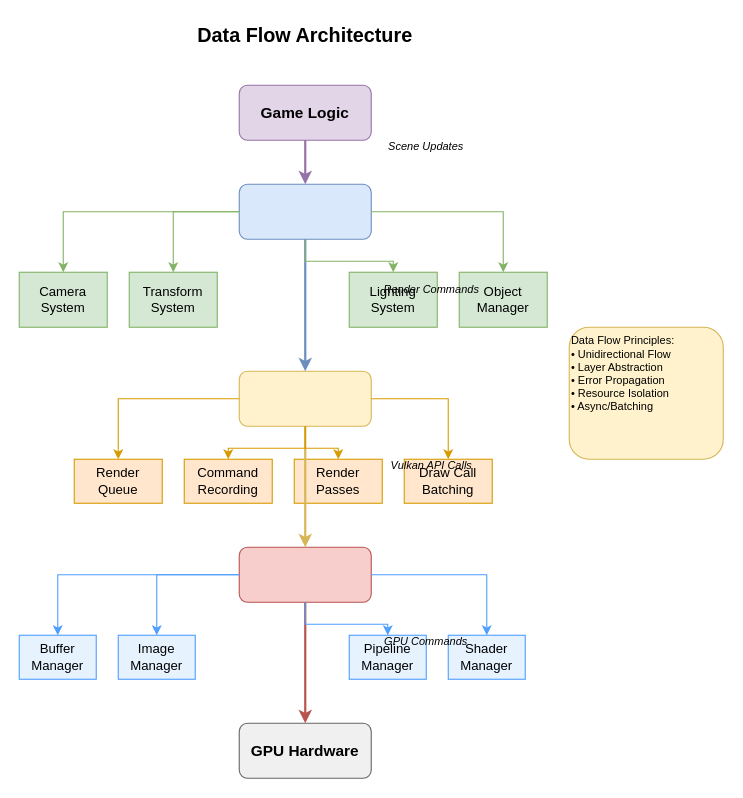
Some shapes in this 743 by 798 pixel diagram are drawn without their labels. Here are the shapes that lost their labels. From the top down, the centre of each, then its label:
At [304,211]: "Scene Management".
At [304,398]: "High-Level Renderer".
At [304,574]: "Vulkan Context".
